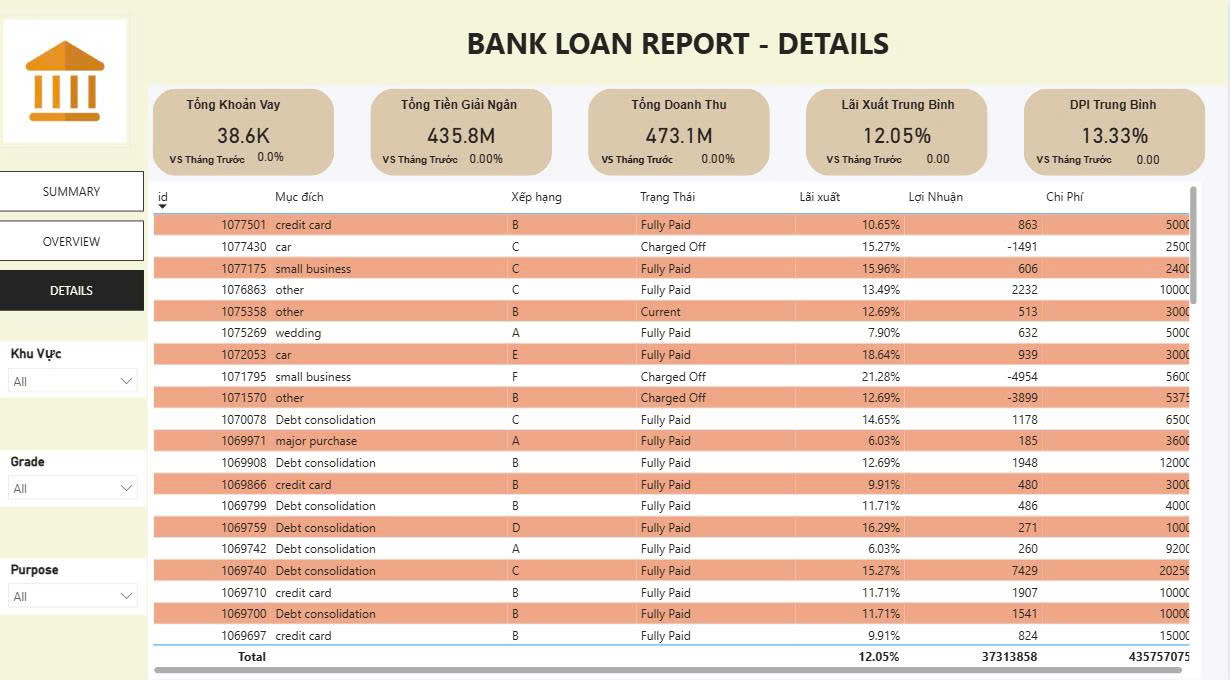

The page's visual inventory and layout, read from the dashboard file:
{"tool":"powerbi","page":{"name":"DETAILS","canvas":[1366,756],"ordinal":2},"visuals":[{"type":"textbox","box":[8.9,16.7,351.1,53.3],"z":0},{"type":"shape","box":[0,0,1366,94],"z":1000},{"type":"shape","box":[0,85,165,670],"z":2000},{"type":"cardVisual","fields":{"Data":["CountNonNull(financial_loan_cleaned_dates.id)","financial_loan_cleaned_dates.M_Total_Amount","financial_loan_cleaned_dates.M_Payment","financial_loan_cleaned_dates.M_Avg_Rate","financial_loan_cleaned_dates.M_AVG_DPI"]},"box":[165,93.8,1180,107.5],"z":3000},{"type":"textbox","box":[184.4,162.2,135.6,30],"z":4000},{"type":"textbox","box":[421.1,162.2,135.6,30],"z":5000},{"type":"textbox","box":[664.4,162.2,135.6,30],"z":6000},{"type":"textbox","box":[412.5,101.9,198.1,26.9],"z":7000},{"type":"textbox","box":[656.4,101.8,198.2,27.3],"z":8000},{"type":"textbox","box":[900,101.8,198.2,27.3],"z":9000},{"type":"textbox","box":[1139.1,101.8,198.2,27.3],"z":10000},{"type":"card","fields":{"Values":["financial_loan_cleaned_dates.M_% total Loan_change"]},"box":[269.6,159.2,63.7,32.8],"z":11000},{"type":"card","fields":{"Values":["financial_loan_cleaned_dates.M_%chang_Total_amout"]},"box":[511.4,162.2,60.7,29.8],"z":12000},{"type":"card","fields":{"Values":["financial_loan_cleaned_dates.M_%Change Profit"]},"box":[769.1,162.2,60.7,29.8],"z":13000},{"type":"card","fields":{"Values":["financial_loan_cleaned_dates.M_%Change Rate"]},"box":[1012.8,162.2,60.7,29.8],"z":14000},{"type":"textbox","box":[914.3,162.2,98.5,29.8],"z":15000},{"type":"textbox","box":[1148.1,162.2,98.5,29.8],"z":16000},{"type":"card","fields":{"Values":["financial_loan_cleaned_dates.M_%Change Rate"]},"box":[1246.6,164.2,60.7,25.9],"z":17000},{"type":"slicer","fields":{"Values":["financial_loan_cleaned_dates.address_state"]},"box":[0,378.6,164.3,62.9],"z":18000},{"type":"slicer","fields":{"Values":["financial_loan_cleaned_dates.grade"]},"box":[0,500,164.3,62.9],"z":19000},{"type":"slicer","fields":{"Values":["financial_loan_cleaned_dates.purpose"]},"box":[0,620,164.3,62.9],"z":20000},{"type":"textbox","box":[161.2,102.5,198.8,31.2],"z":21000},{"type":"tableEx","fields":{"Values":["financial_loan_cleaned_dates.id","financial_loan_cleaned_dates.purpose","financial_loan_cleaned_dates.grade","financial_loan_cleaned_dates.loan_status","financial_loan_cleaned_dates.M_Avg_Rate","financial_loan_cleaned_dates.M_Profit","financial_loan_cleaned_dates.M_Total_Amount"]},"box":[165.6,201.1,1171.1,553.3],"z":22000},{"type":"textbox","box":[421.2,20,666.2,55],"z":23000},{"type":"image","box":[0,15.6,146.7,148.9],"z":24000},{"type":"pageNavigator","box":[0,190,161.4,157.1],"z":26000}]}

Visuals, with their boxes in screenshot pixels (x1, y1, x2, y2), scaled from the page's 1366x756 canvas onto the 1230x680 screenshot:
textbox: box=[8, 15, 324, 63]
shape: box=[0, 0, 1229, 85]
shape: box=[0, 76, 149, 679]
cardVisual - CountNonNull(financial_loan_cleaned_dates.id) x financial_loan_cleaned_dates.M_Total_Amount: box=[149, 84, 1211, 181]
textbox: box=[166, 146, 288, 173]
textbox: box=[379, 146, 501, 173]
textbox: box=[598, 146, 720, 173]
textbox: box=[371, 92, 550, 116]
textbox: box=[591, 92, 770, 116]
textbox: box=[810, 92, 989, 116]
textbox: box=[1026, 92, 1204, 116]
card - financial_loan_cleaned_dates.M_% total Loan_change: box=[243, 143, 300, 173]
card - financial_loan_cleaned_dates.M_%chang_Total_amout: box=[460, 146, 515, 173]
card - financial_loan_cleaned_dates.M_%Change Profit: box=[693, 146, 747, 173]
card - financial_loan_cleaned_dates.M_%Change Rate: box=[912, 146, 967, 173]
textbox: box=[823, 146, 912, 173]
textbox: box=[1034, 146, 1122, 173]
card - financial_loan_cleaned_dates.M_%Change Rate: box=[1122, 148, 1177, 171]
slicer - financial_loan_cleaned_dates.address_state: box=[0, 341, 148, 397]
slicer - financial_loan_cleaned_dates.grade: box=[0, 450, 148, 506]
slicer - financial_loan_cleaned_dates.purpose: box=[0, 558, 148, 614]
textbox: box=[145, 92, 324, 120]
tableEx - financial_loan_cleaned_dates.id x financial_loan_cleaned_dates.purpose: box=[149, 181, 1204, 679]
textbox: box=[379, 18, 979, 67]
image: box=[0, 14, 132, 148]
pageNavigator: box=[0, 171, 145, 312]
